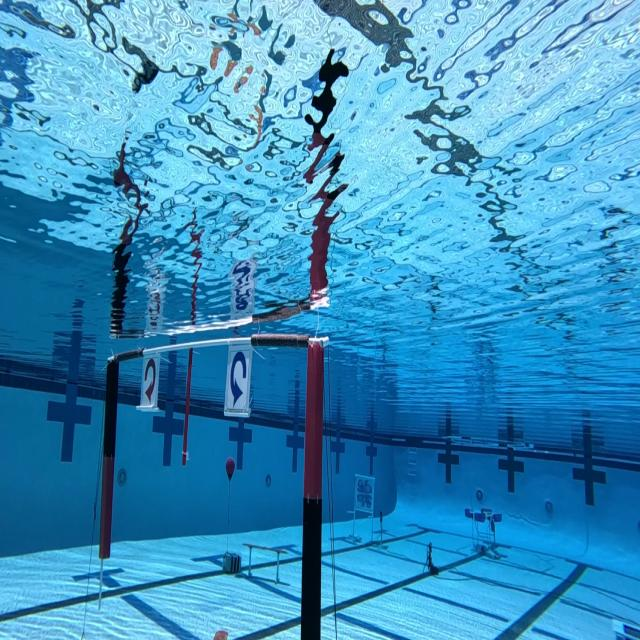blue_side: (228, 344, 248, 421)
red_side: (140, 358, 159, 409)
